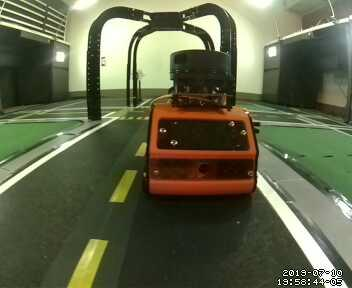pheeno: (145, 49, 260, 202)
